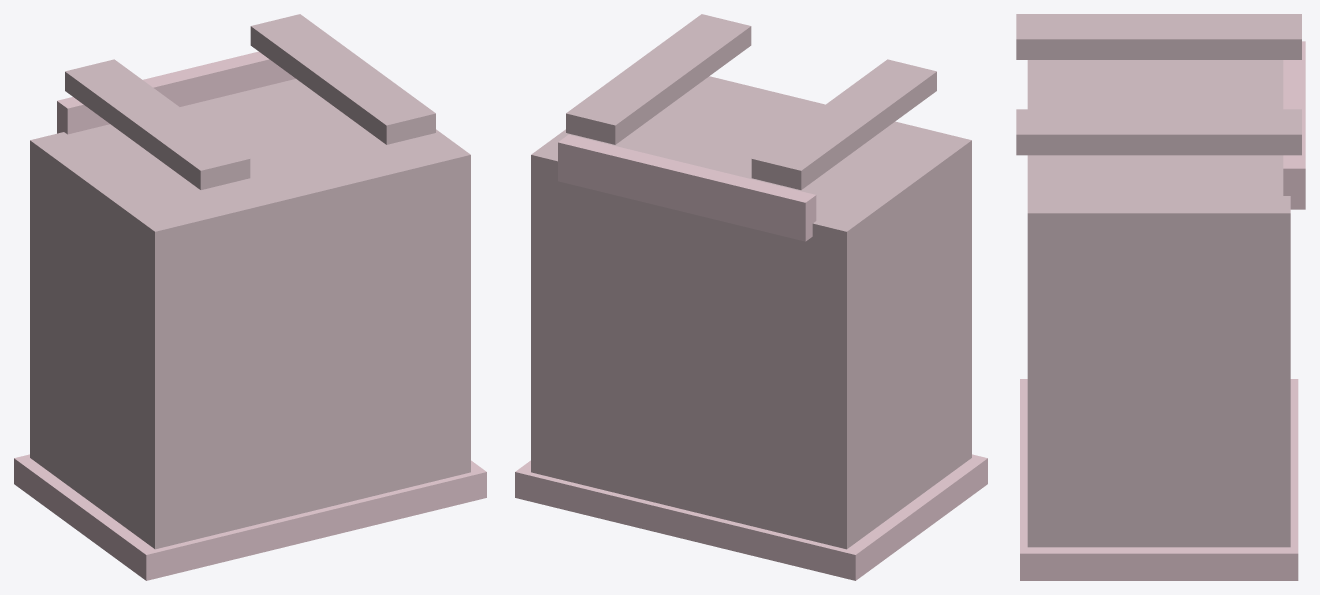
File: bailarina_tronco.glb
The picture shows the model from 3 angles, left to right: view 1: azimuth 30°, elevation 25°; view 2: azimuth 150°, elevation 25°; view 3: azimuth 270°, elevation 25°; orthographic projection. The views are drawn at different scales.
Parts seen in each view (by area): view 1: bailarina_tronco; view 2: bailarina_tronco; view 3: bailarina_tronco.
Part boxes in pixels (<box>): bailarina_tronco: <box>14,14,486,580</box>; bailarina_tronco: <box>515,14,987,580</box>; bailarina_tronco: <box>1016,14,1305,580</box>.
Size of the model in its own units: 0.55 by 0.615 by 0.385.
